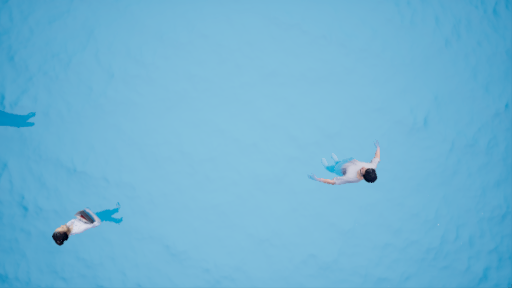person: (297, 126, 391, 189), (36, 194, 137, 244)
